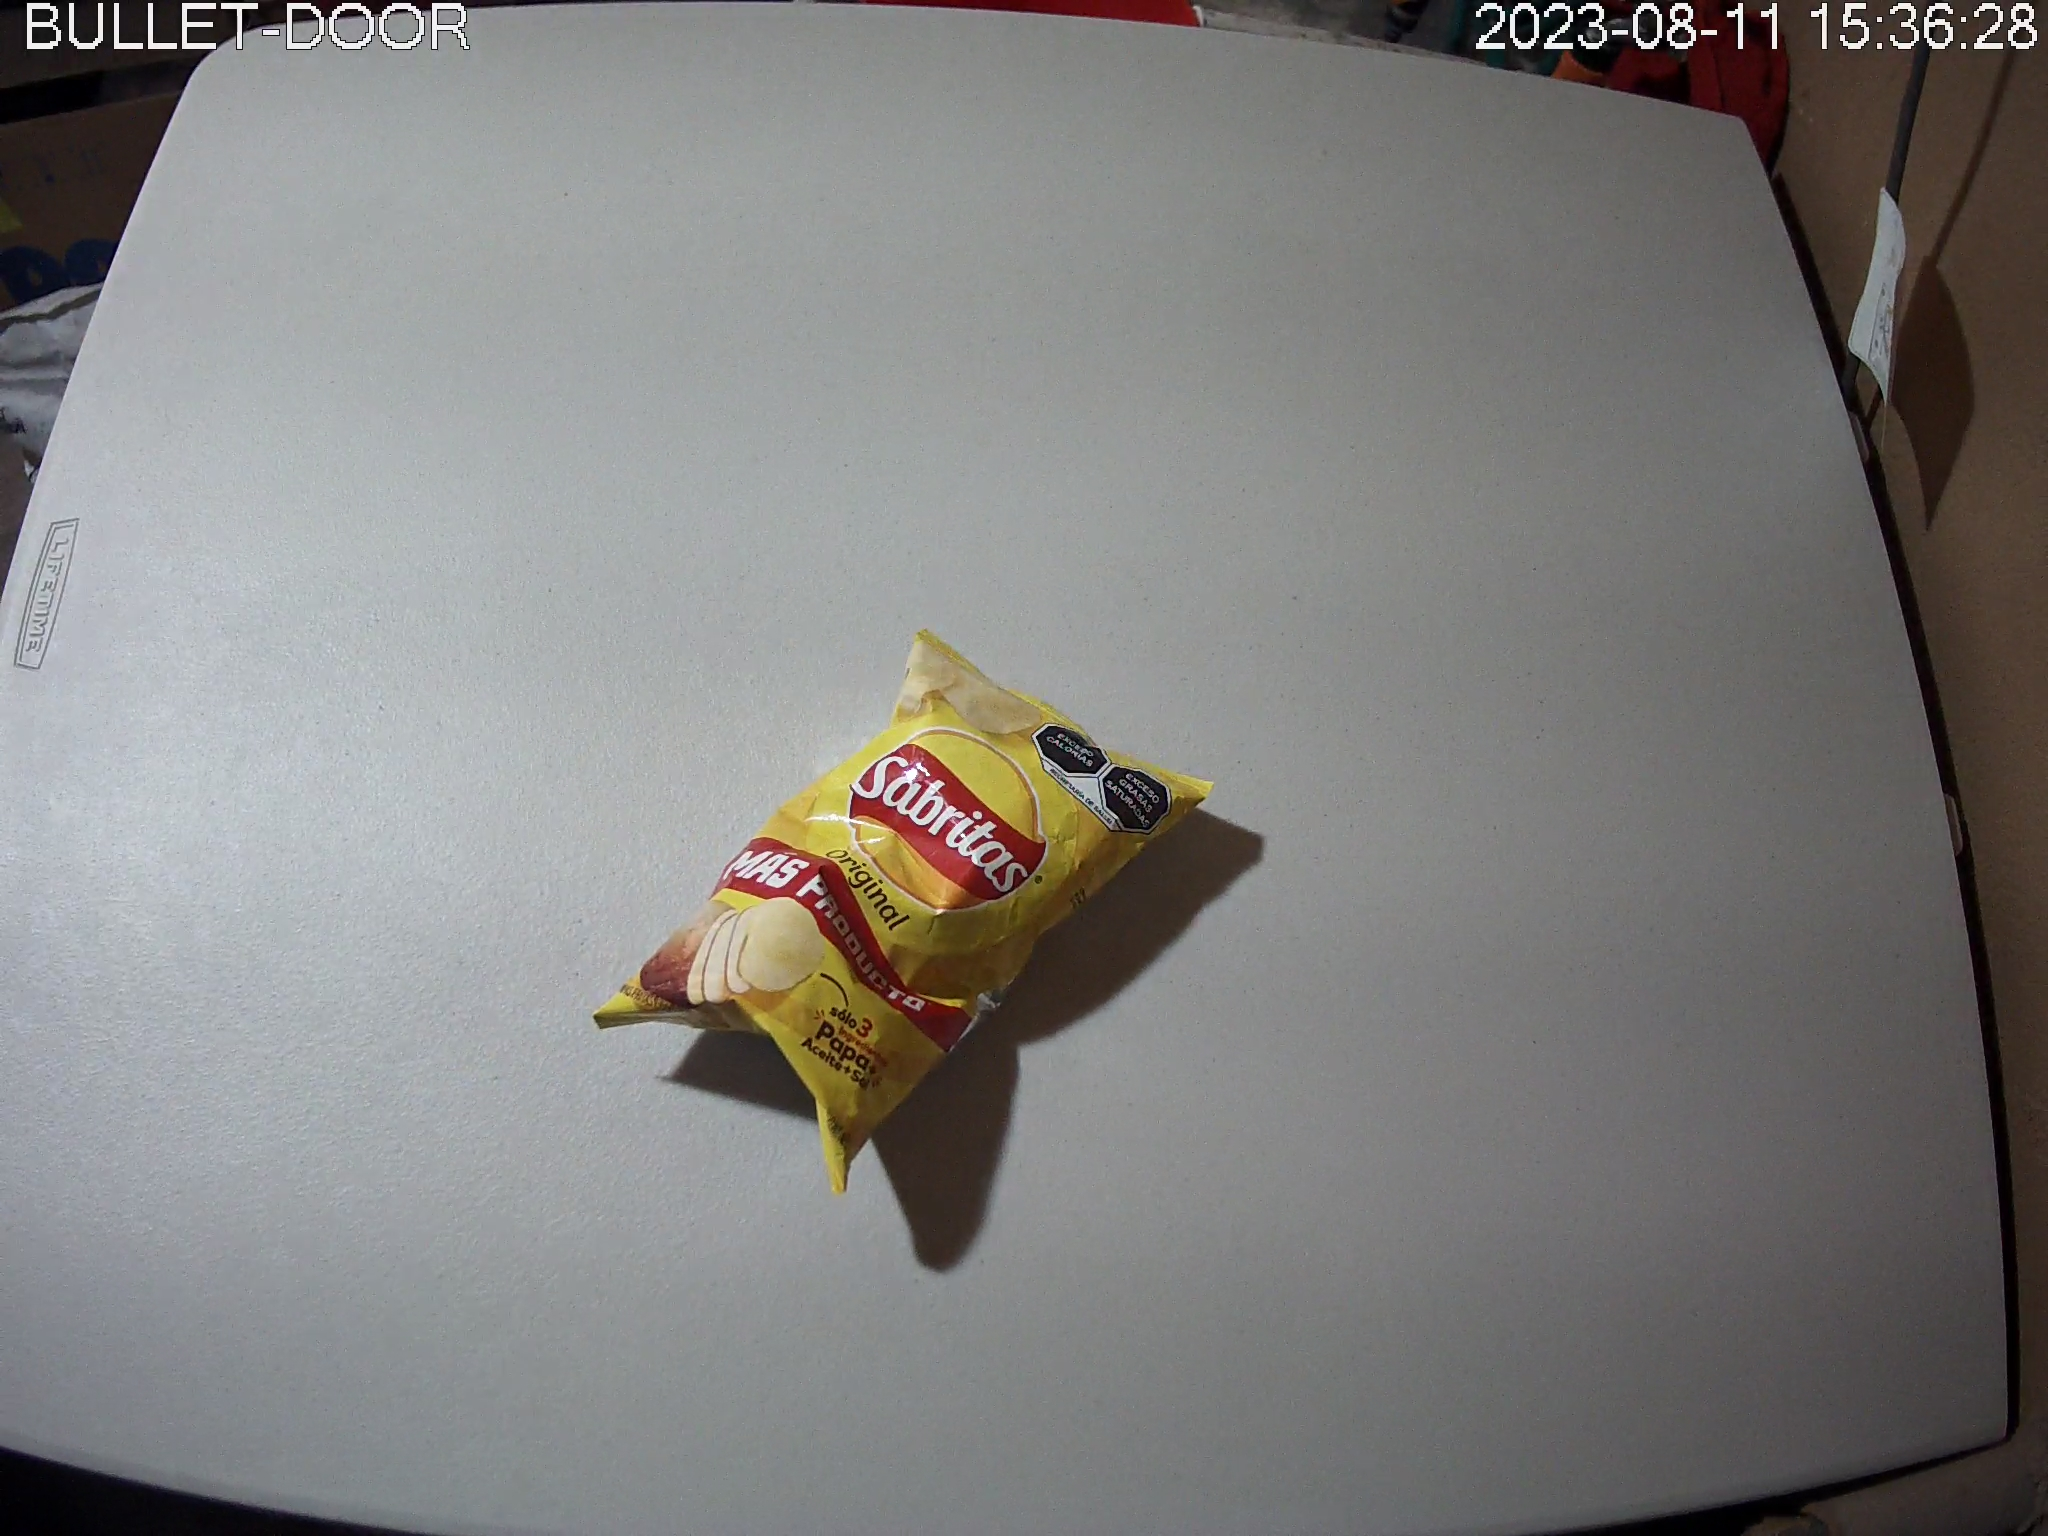Sabritas_45_F: (592, 624, 1218, 1200)
